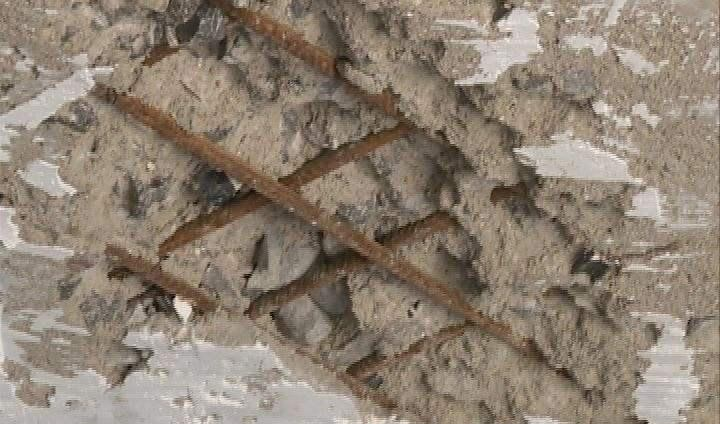Exposed reinforcement: (88, 83, 577, 378), (105, 243, 397, 408), (210, 1, 458, 151), (157, 122, 419, 256), (245, 211, 458, 321), (345, 322, 469, 379), (142, 1, 209, 69)
Spalling: (1, 1, 720, 424)
